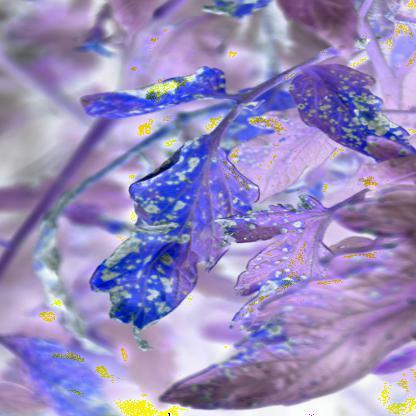Tomato Early blight leaf: (95, 131, 240, 326), (282, 62, 415, 160), (77, 69, 235, 117)
